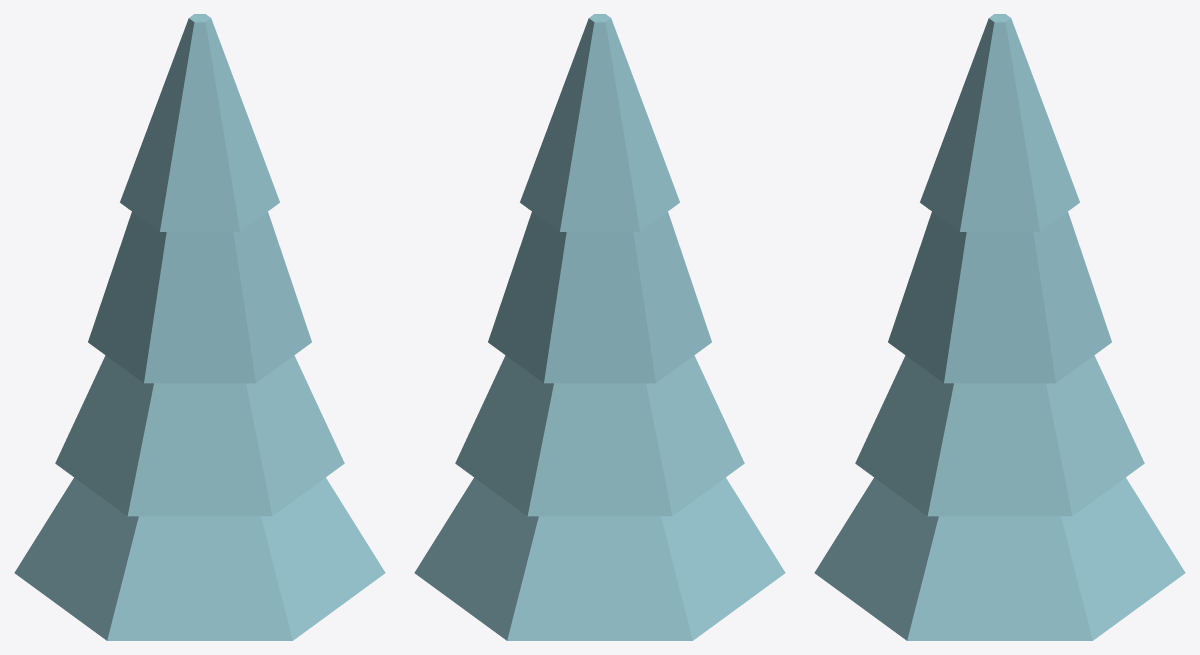
File: tree_pineSmall_round2.glb
3 renders of one model, left to right at view 1: azimuth 30°, elevation 25°; view 2: azimuth 150°, elevation 25°; view 3: azimuth 270°, elevation 25°, orthographic.
Visible parts, largest first — view 1: tree_pineSmall_round2; view 2: tree_pineSmall_round2; view 3: tree_pineSmall_round2.
Part boxes in pixels (x1,y1,x2,y2): tree_pineSmall_round2: (14,14,385,640); tree_pineSmall_round2: (414,14,785,640); tree_pineSmall_round2: (814,14,1185,640).
Size of the model in its own units: 0.4804 by 0.9145 by 0.5547.
